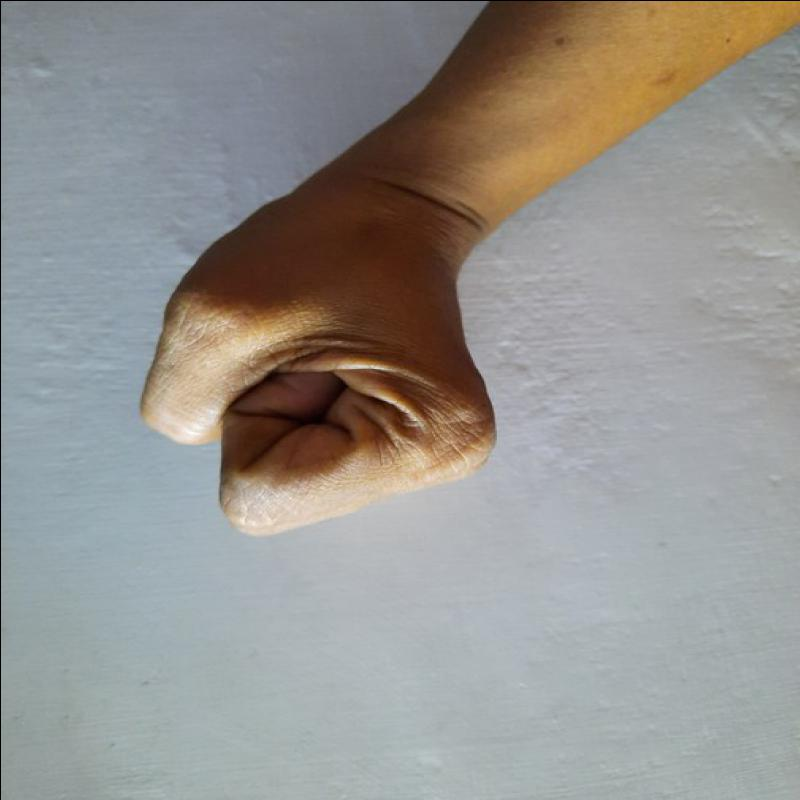Mushti: (110, 160, 517, 559)
